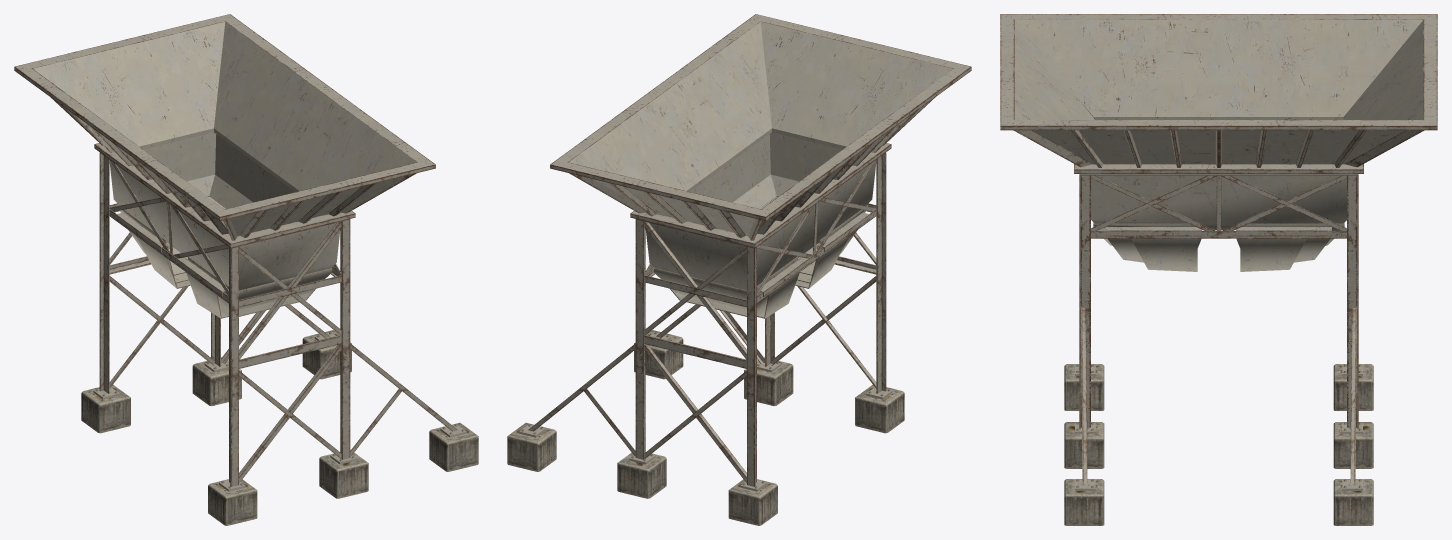
Rendered from terrain_output_bucket.glb.
3 views of the same model, side by side, from view 1: azimuth 30°, elevation 25°; view 2: azimuth 150°, elevation 25°; view 3: azimuth 270°, elevation 25° (orthographic). The views are drawn at different scales.
Visible parts, largest first — view 1: terrain_output_bucket_LOD0; view 2: terrain_output_bucket_LOD0; view 3: terrain_output_bucket_LOD0.
Boxes of the visible parts, <box> form: terrain_output_bucket_LOD0: <box>14,14,478,525</box>; terrain_output_bucket_LOD0: <box>507,14,971,525</box>; terrain_output_bucket_LOD0: <box>1000,14,1437,525</box>.
Size of the model in its own units: 8.99 by 10.09 by 11.06.
Materials: 3 (3 with a texture image).
